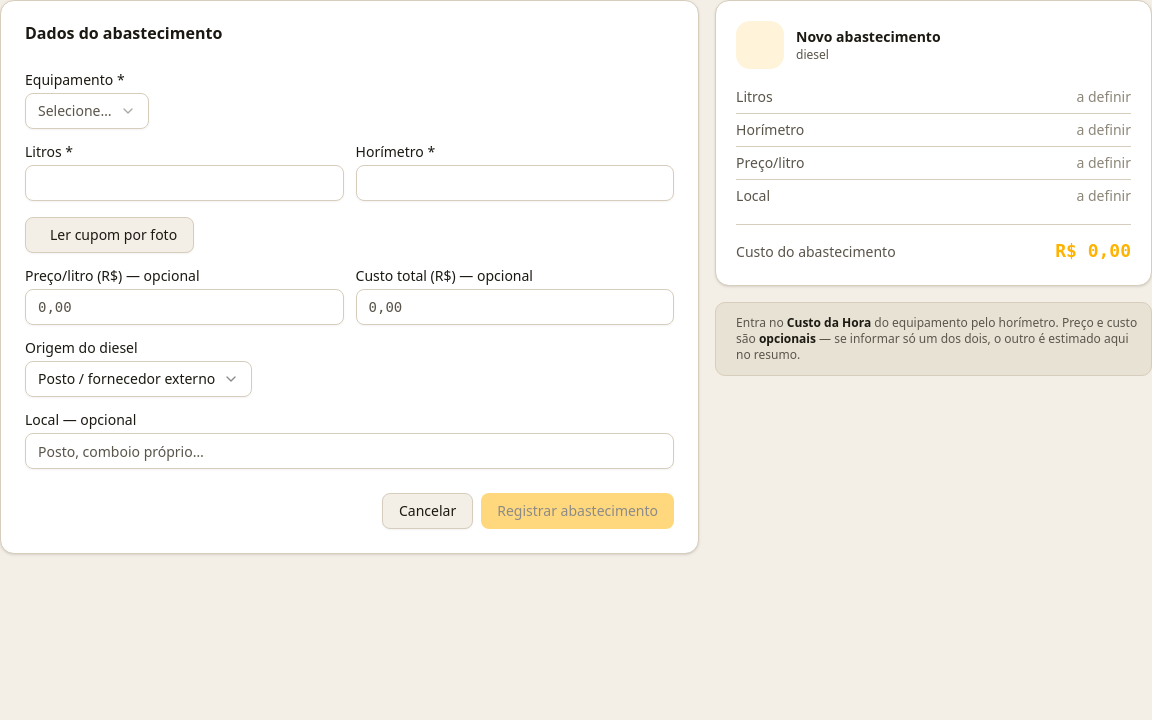
Test case: AbastecimentoForm › resumo ao vivo estima o custo a partir de litros × preço quando o custo total não é informado
Expected: the text "Novo abastecimento" is shown, x1=796 y1=27 x2=941 y2=47
Type "100" into the number field labelled "Litros *" at (184, 183), box x1=25 y1=165 x2=344 y2=201
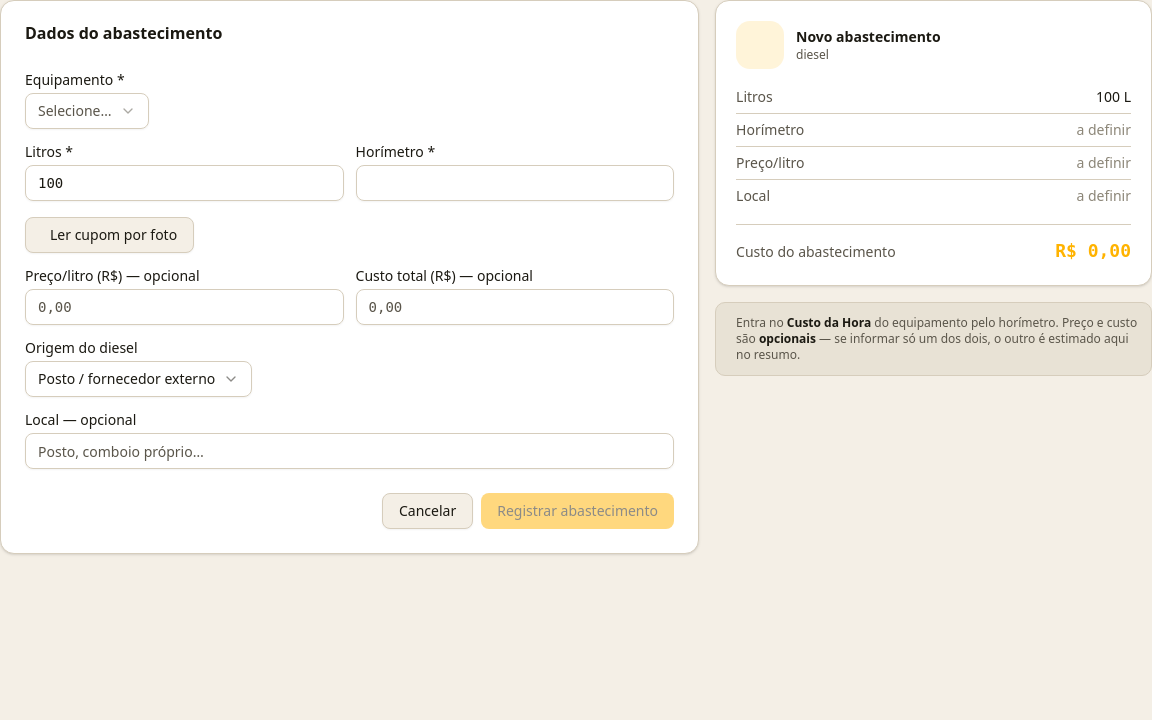
Type "6" into the number field labelled "Preço/litro (R$) — opcional" at (184, 307), box x1=25 y1=289 x2=344 y2=325
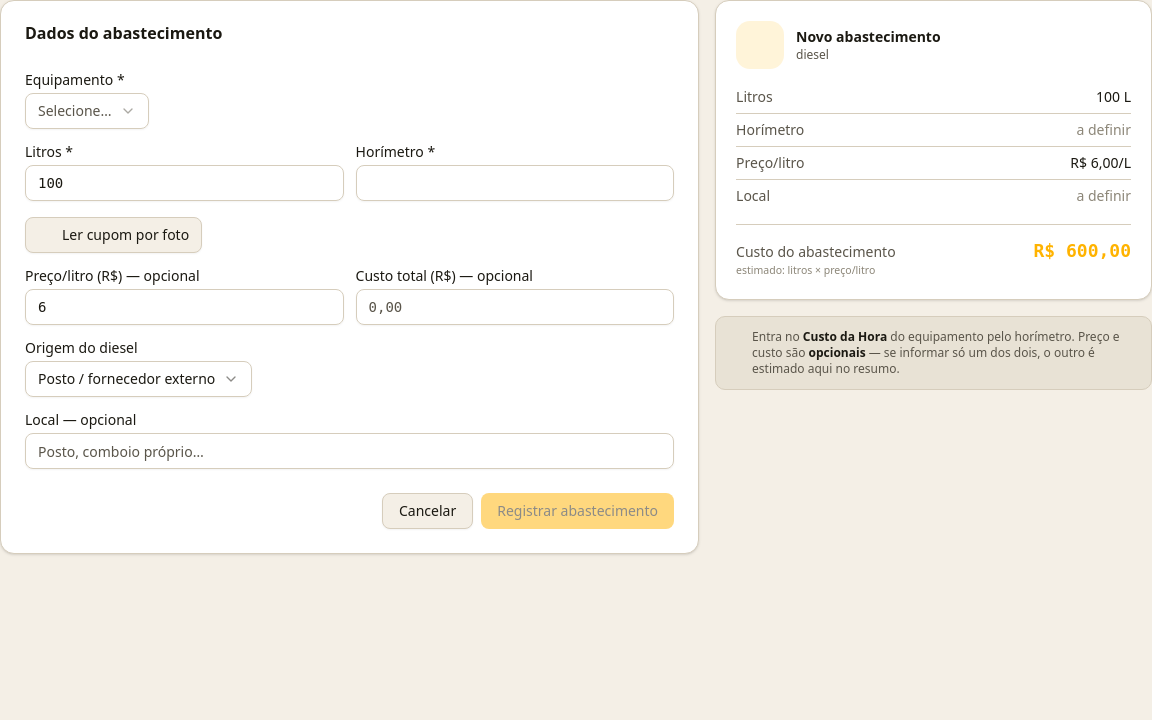
Now the text "R$ 600,00" is shown, box x1=1034 y1=237 x2=1131 y2=265
Now the text "estimado: litros × preço/litro" is shown, box x1=736 y1=263 x2=896 y2=279
